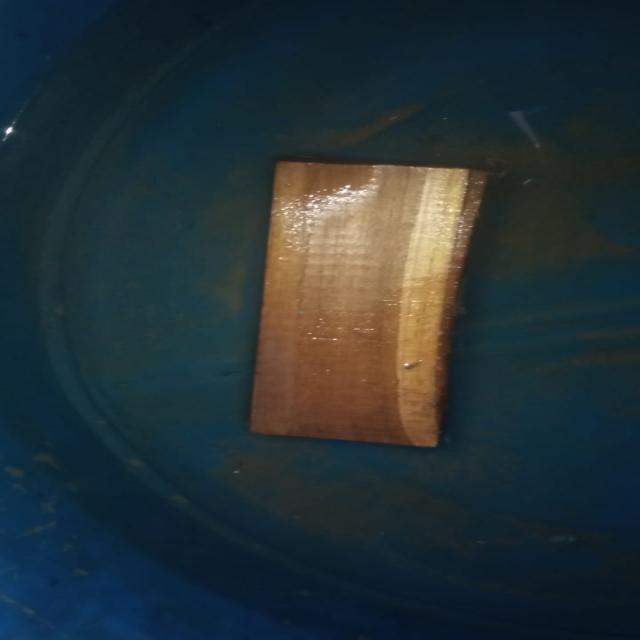litter: (228, 146, 499, 454)
